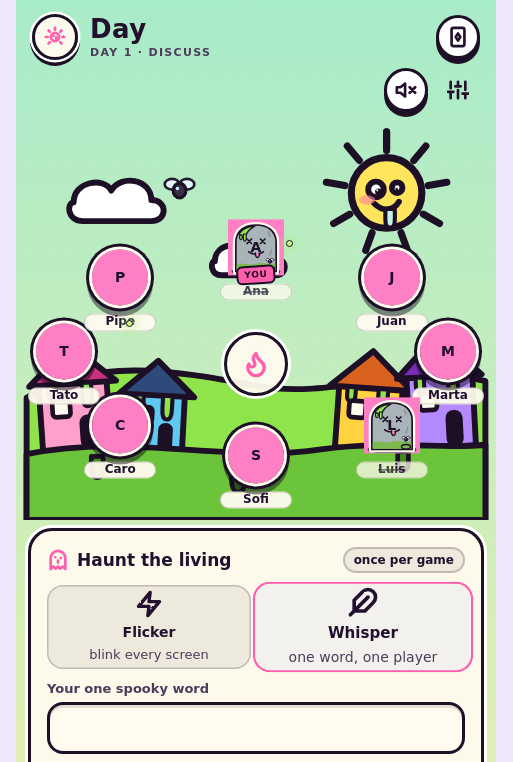
GhostDock › shows a rejected haunt: haunt-used
Step 1. Click the button with class "ghost-choice" showing "Flicker blink every screen" → x=149, y=627, box [47,585,251,669]
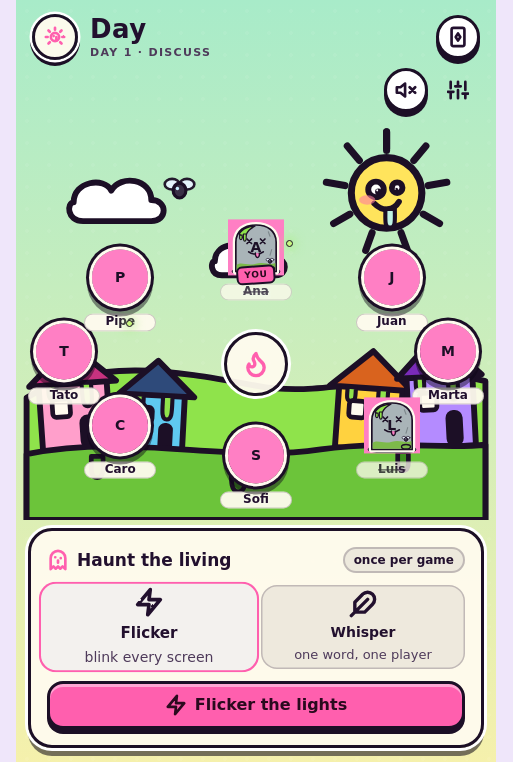
Step 2. Click the button "Flicker the lights" → x=256, y=705, box [47,681,465,729]
(page scrolled)
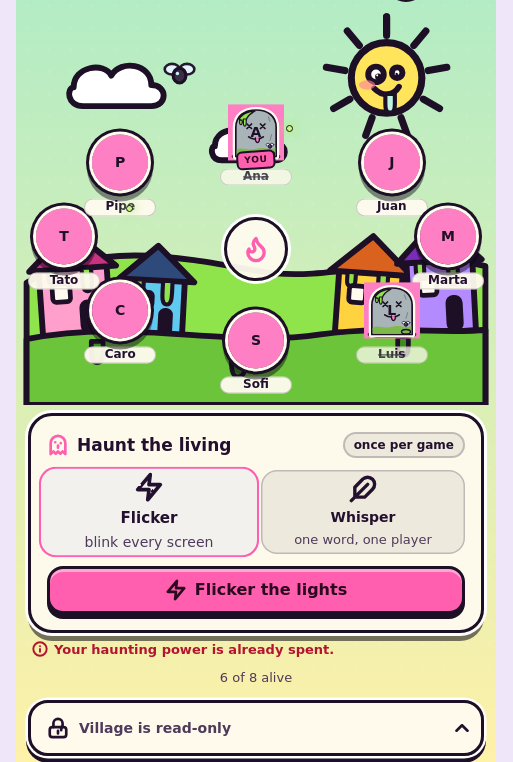
Expected: the message with class "err" reads "Your haunting power is already spent.", [54,642,334,657]
